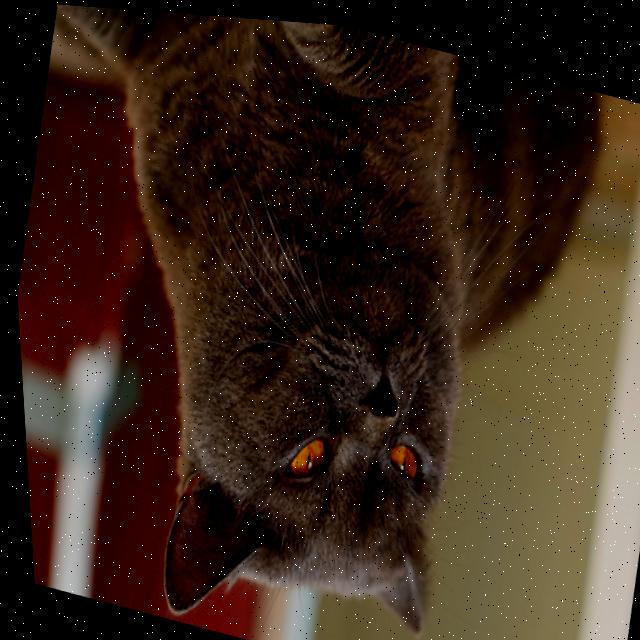British Shorthair: (0, 0, 633, 640)
